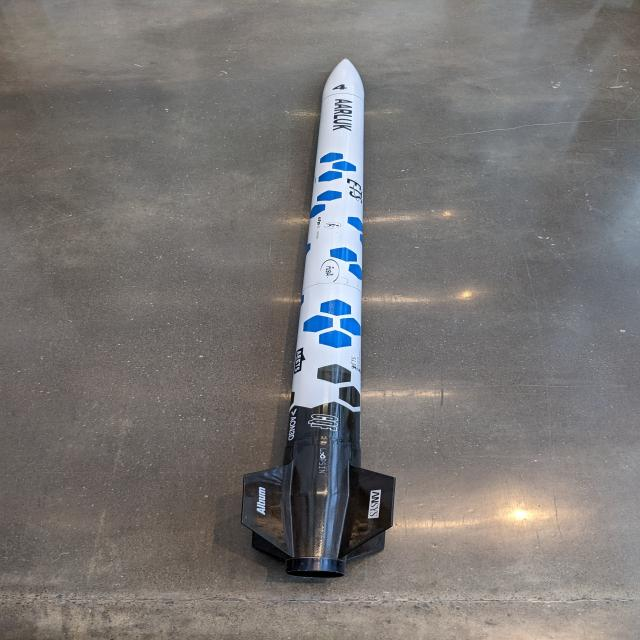Rocket: (240, 57, 397, 579)
